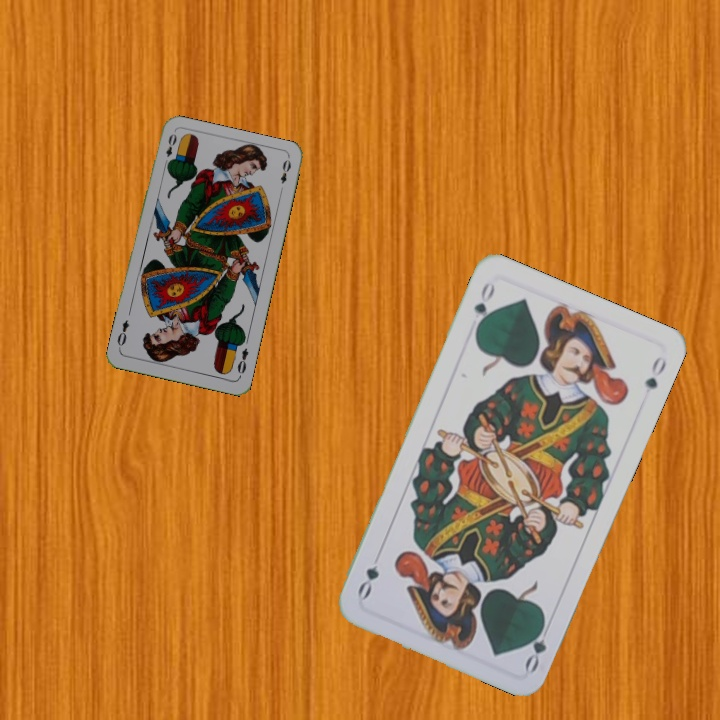EO: (160, 129, 179, 170), (233, 344, 251, 380)
GO: (520, 615, 554, 675), (470, 278, 498, 335)
